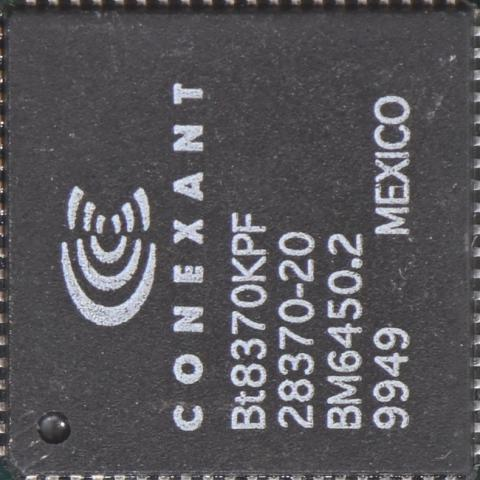IC: (2, 8, 475, 476)
